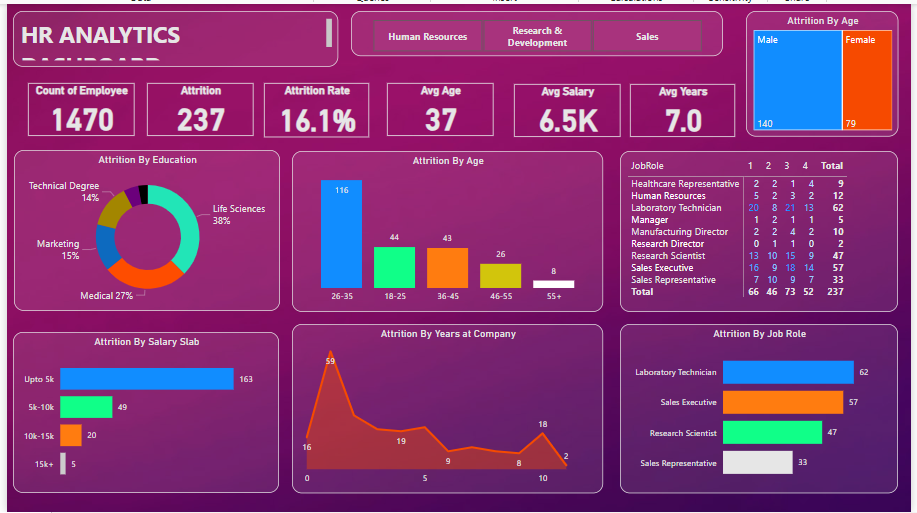

Layout of this report page (visuals, bound fields, positions):
{"tool":"powerbi","page":{"name":"Page 1","canvas":[1280,720],"ordinal":0},"visuals":[{"type":"card","title":"Count of Employee","fields":{"Values":["CountNonNull(HR_Analytics.EmpID)"]},"box":[30.2,112.4,151,75.5],"z":0},{"type":"card","title":"Attrition","fields":{"Values":["Sum(HR_Analytics.AttritionCount)"]},"box":[198,112.4,151,75.5],"z":1000},{"type":"card","title":"Avg Age","fields":{"Values":["Avg(HR_Analytics.Age)"]},"box":[538.5,112.4,151,75.5],"z":2000},{"type":"card","title":"Attrition Rate","fields":{"Values":["HR_Analytics.AttritionRate"]},"box":[364,112.4,149.3,77.2],"z":3000},{"type":"card","title":"Avg Salary","fields":{"Values":["Avg(HR_Analytics.MonthlyIncome)"]},"box":[718,114.1,151,75.5],"z":4000},{"type":"card","title":"Avg Years","fields":{"Values":["Avg(HR_Analytics.YearsAtCompany)"]},"box":[882.4,114.1,149.3,75.5],"z":5000},{"type":"donutChart","title":"Attrition By Education","fields":{"Category":["HR_Analytics.EducationField"],"Y":["Sum(HR_Analytics.AttritionCount)"]},"box":[9.9,206.9,377,228.2],"z":6000},{"type":"columnChart","title":"Attrition By Age","fields":{"Category":["HR_Analytics.AgeGroup"],"Y":["Sum(HR_Analytics.AttritionCount)"]},"box":[404.3,208,441.2,228.2],"z":7000},{"type":"pivotTable","fields":{"Rows":["HR_Analytics.JobRole"],"Values":["Sum(HR_Analytics.AttritionCount)"],"Columns":["HR_Analytics.JobSatisfaction"]},"box":[869,208,394.2,228.2],"z":8000},{"type":"barChart","title":"Attrition By Job Role","fields":{"Y":["Sum(HR_Analytics.AttritionCount)"],"Category":["HR_Analytics.JobRole"]},"box":[869,452.9,394.2,239.9],"z":9000},{"type":"barChart","title":"Attrition By Salary Slab","fields":{"Category":["HR_Analytics.SalarySlab"],"Y":["Sum(HR_Analytics.AttritionCount)"]},"box":[8.4,464.7,377.5,228.2],"z":10000},{"type":"areaChart","title":"Attrition By Years at Company","fields":{"Y":["Sum(HR_Analytics.AttritionCount)"],"Category":["HR_Analytics.YearsAtCompany"]},"box":[404.3,452.9,441.2,239.9],"z":11000},{"type":"treemap","title":"Attrition By Age","fields":{"Group":["HR_Analytics.Gender"],"Values":["Sum(HR_Analytics.AttritionCount)"]},"box":[1046.8,10.1,216.4,177.8],"z":12000},{"type":"slicer","fields":{"Values":["HR_Analytics.Department"]},"box":[488.2,10.1,526.8,63.7],"z":13000},{"type":"textbox","box":[8.4,10.1,461.3,78.8],"z":14000}]}

Visuals, with their boxes in screenshot pixels (x1, y1, x2, y2), scaled from the page's 1280x720 canvas onto the 917x513 screenshot:
"Count of Employee" card: [22,80,130,134]
"Attrition" card: [142,80,250,134]
"Avg Age" card: [386,80,494,134]
"Attrition Rate" card: [261,80,368,135]
"Avg Salary" card: [514,81,623,135]
"Avg Years" card: [632,81,739,135]
"Attrition By Education" donutChart: [7,147,277,310]
"Attrition By Age" columnChart: [290,148,606,311]
pivotTable - HR_Analytics.JobRole x Sum(HR_Analytics.AttritionCount): [623,148,905,311]
"Attrition By Job Role" barChart: [623,323,905,494]
"Attrition By Salary Slab" barChart: [6,331,276,494]
"Attrition By Years at Company" areaChart: [290,323,606,494]
"Attrition By Age" treemap: [750,7,905,134]
slicer - HR_Analytics.Department: [350,7,727,53]
textbox: [6,7,336,63]
